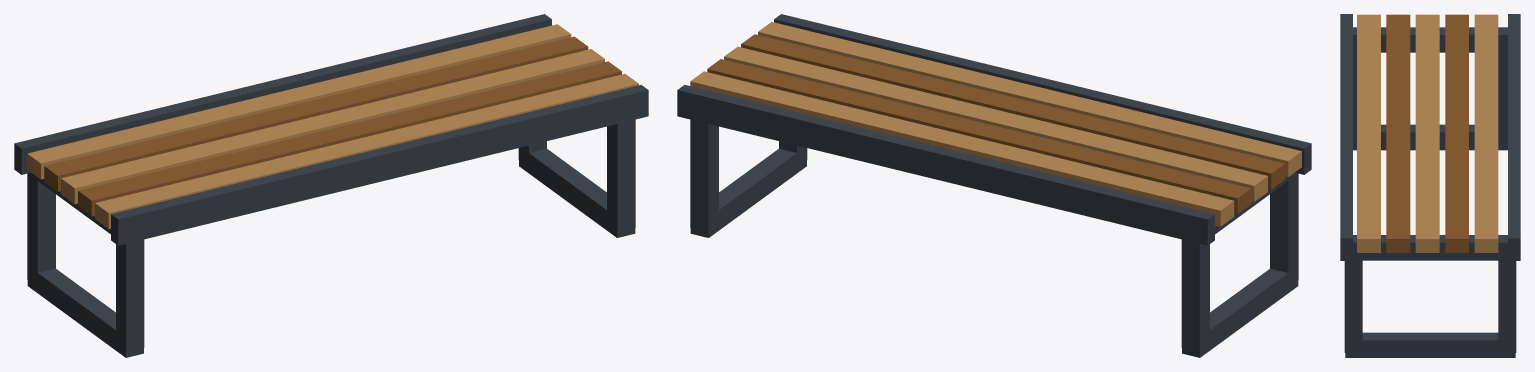
Rendered from bench-wood-2.glb.
The picture shows the model from 3 angles, left to right: view 1: azimuth 30°, elevation 25°; view 2: azimuth 150°, elevation 25°; view 3: azimuth 270°, elevation 25°; orthographic projection. The views are drawn at different scales.
Parts seen in each view (by area): view 1: wood-bench-slat (×5), BenchWood2; view 2: wood-bench-slat (×5), BenchWood2; view 3: wood-bench-slat (×5), BenchWood2.
Boxes of the visible parts, left/top/right/bottom form: wood-bench-slat (×5): left=27, top=24, right=638, bottom=228; BenchWood2: left=14, top=14, right=648, bottom=357; wood-bench-slat (×5): left=690, top=22, right=1301, bottom=226; BenchWood2: left=677, top=14, right=1311, bottom=357; wood-bench-slat (×5): left=1357, top=14, right=1498, bottom=252; BenchWood2: left=1340, top=14, right=1520, bottom=357.
Bounding box in the file's own units: 1.9 × 0.49 × 0.645.
